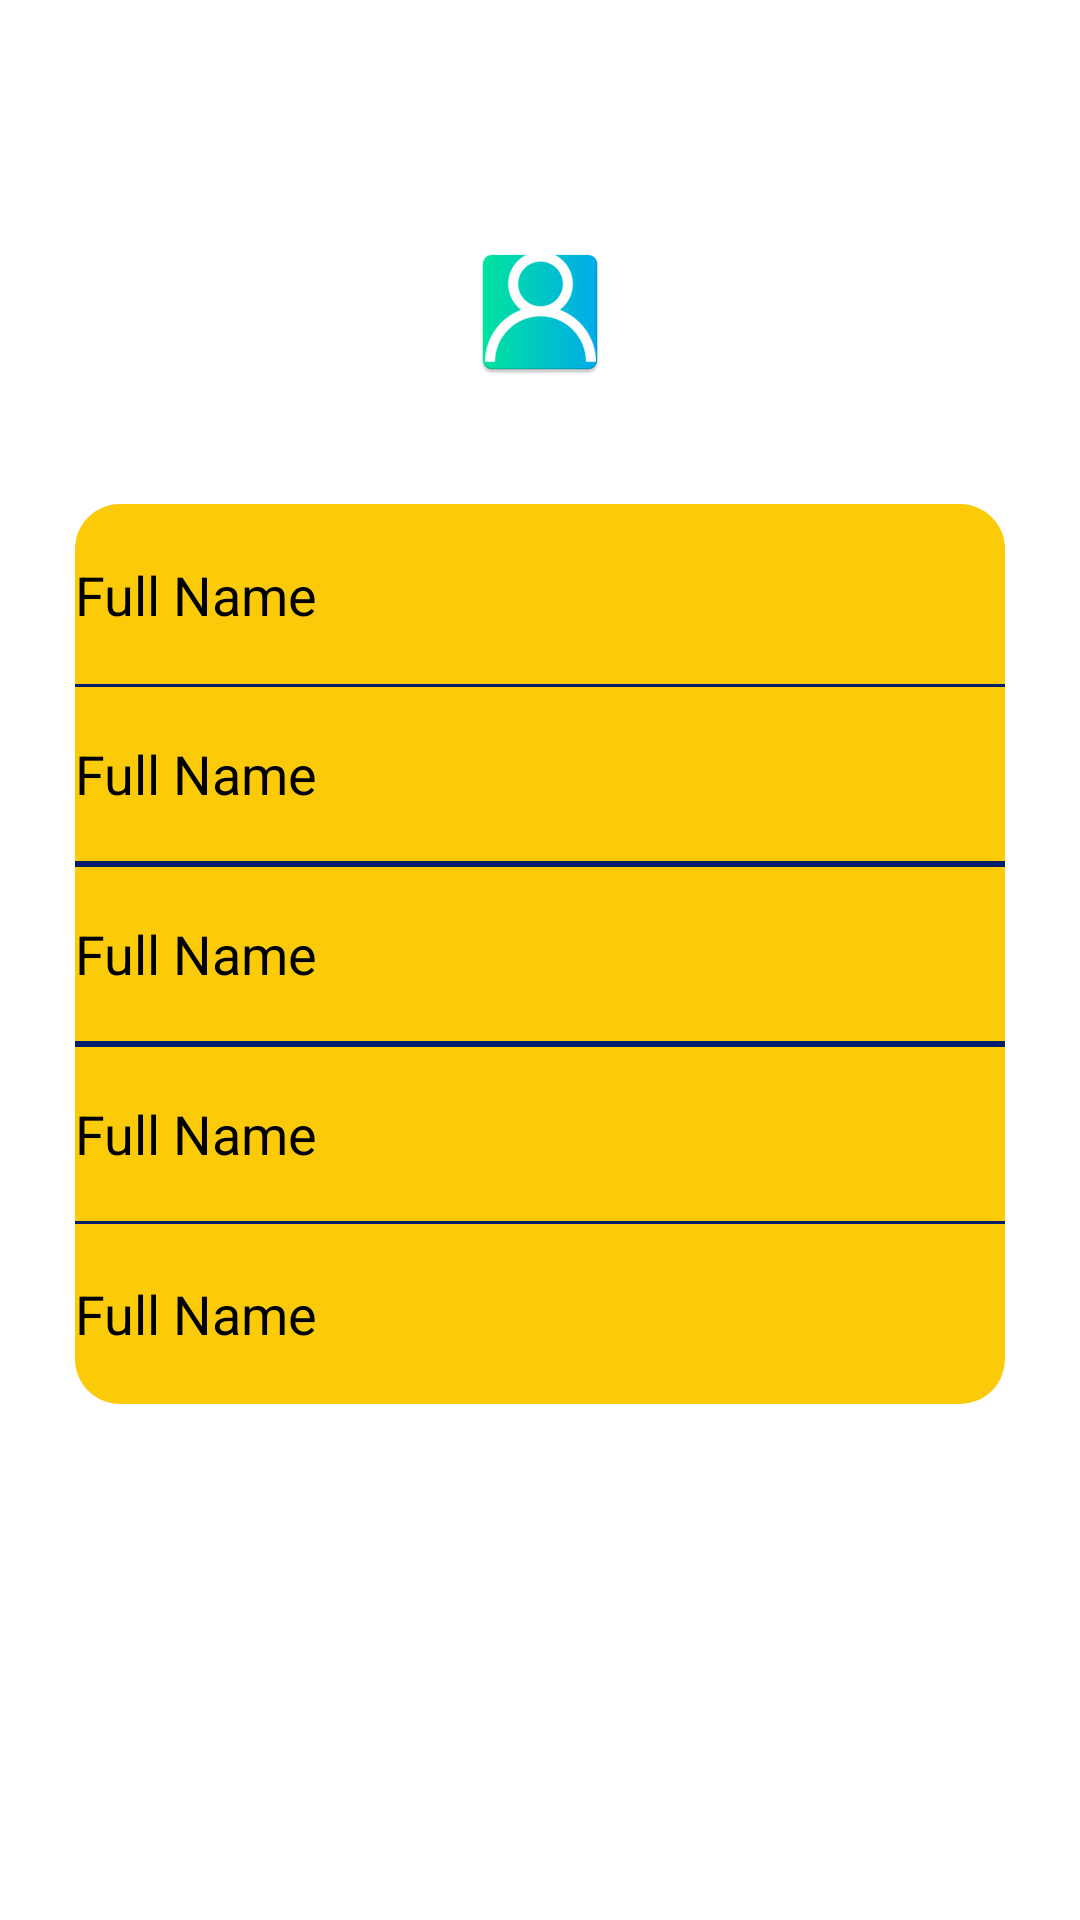

Icons on this 1080*1920 Android screen, each with its box as (x1, y1, x2, y2):
user: (482, 254, 598, 373)
